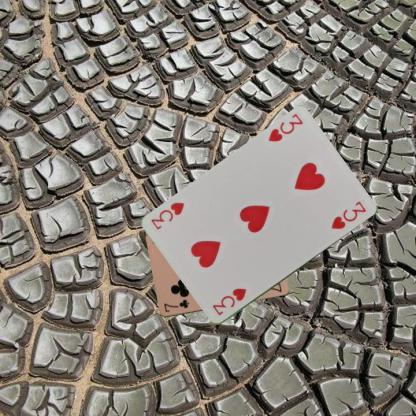3h: (266, 111, 304, 144), (209, 286, 248, 318)
7c: (161, 297, 190, 314)
